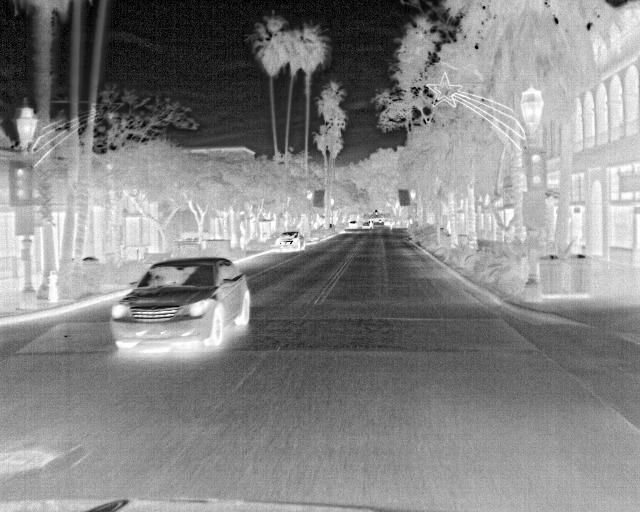car: (108, 254, 253, 350), (272, 230, 303, 250), (361, 219, 375, 231), (346, 220, 359, 232)
